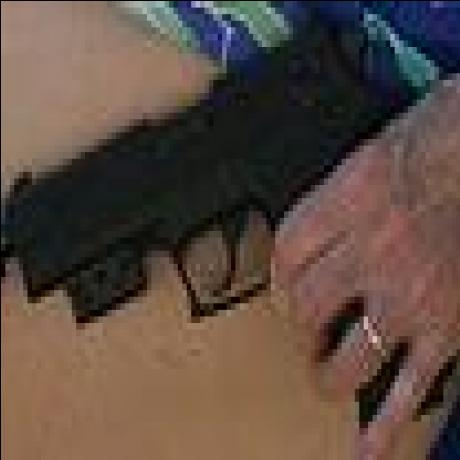weapon: (0, 9, 406, 328)
